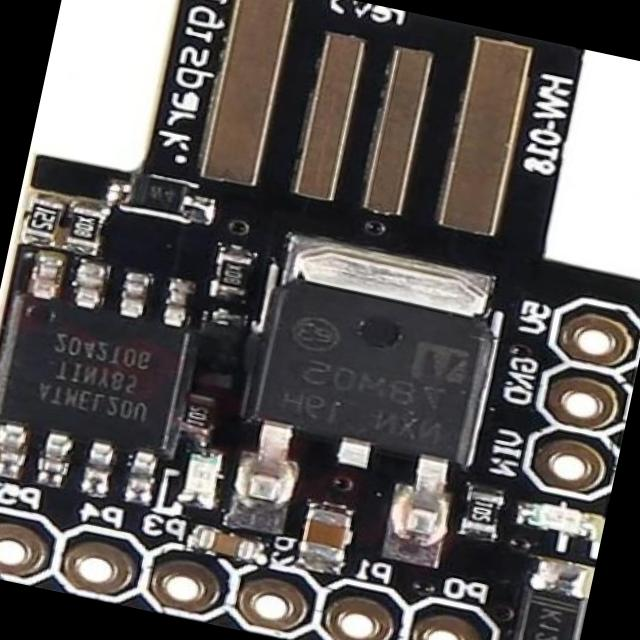IC: (234, 252, 498, 534), (0, 251, 199, 480)
capacitor: (295, 506, 350, 556), (196, 527, 255, 563)
diode: (120, 170, 210, 223), (514, 585, 585, 640)
resistor: (207, 246, 255, 302), (22, 196, 64, 244), (180, 392, 220, 442), (457, 493, 496, 544), (64, 205, 104, 252)
